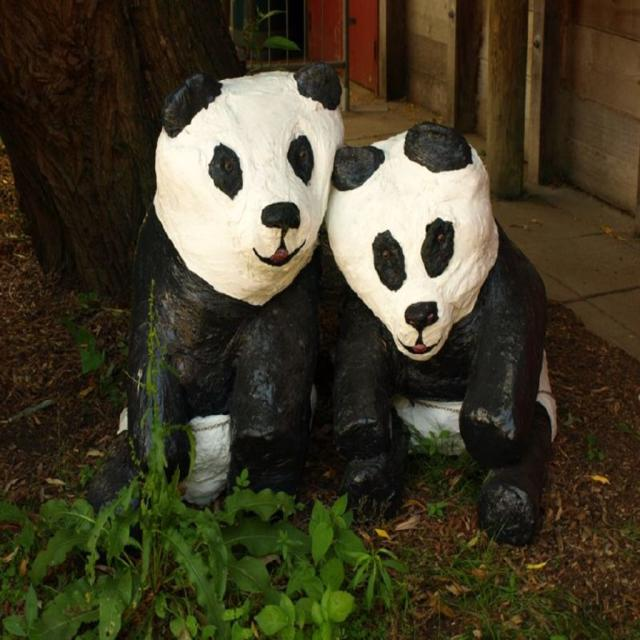panda: (118, 60, 348, 519), (323, 121, 561, 547)
